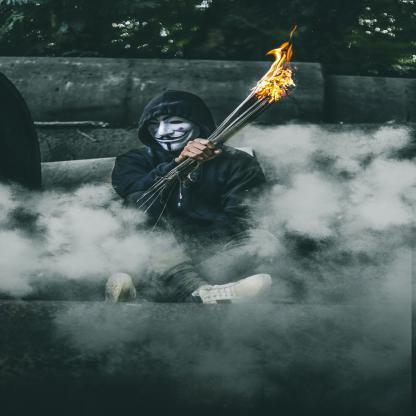Fire: (260, 43, 300, 100)
Smoke: (228, 126, 410, 389), (8, 185, 210, 381)
